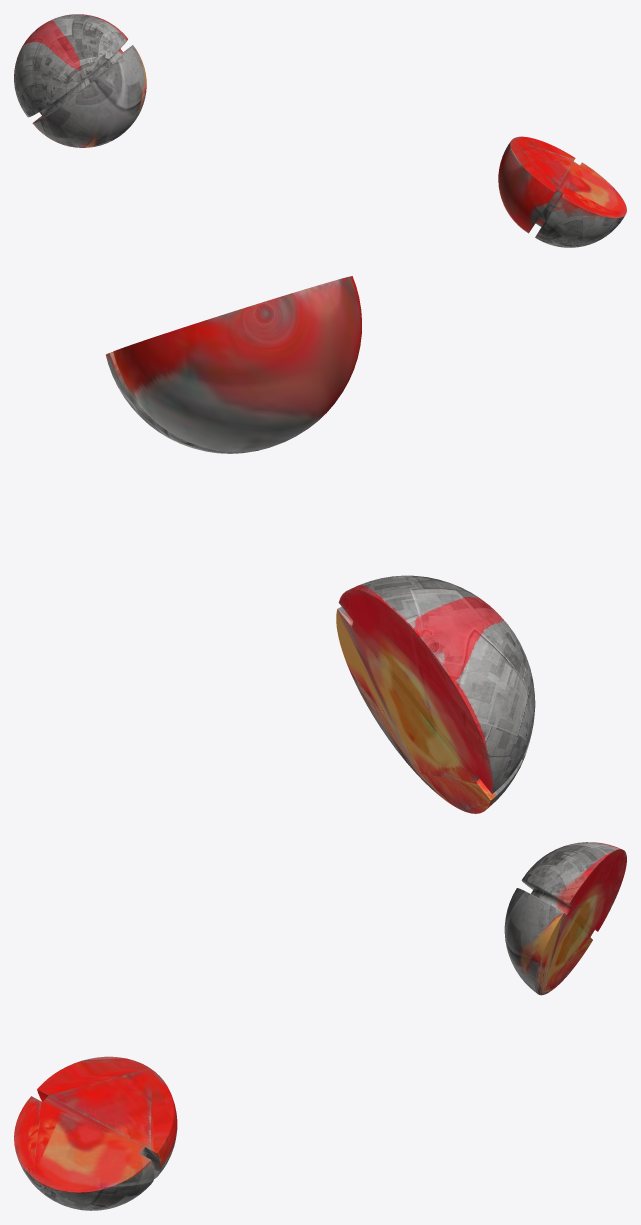
Rendered from Drone166_000032.obj.
The picture shows the model from 3 angles, top to bottom: view 1: azimuth 30°, elevation 25°; view 2: azimuth 150°, elevation 25°; view 3: azimuth 270°, elevation 25°; orthographic projection. The views are drawn at different scales.
Visible parts, largest first — view 1: Sphere.000_Sphere.004, Sphere.001_Sphere.005; view 2: Sphere.000_Sphere.004, Sphere.001_Sphere.005; view 3: Sphere.001_Sphere.005, Sphere.000_Sphere.004.
Part boxes in pixels (x1,y1,x2,y2): Sphere.000_Sphere.004: (14, 14, 146, 147); Sphere.001_Sphere.005: (498, 136, 626, 247); Sphere.000_Sphere.004: (336, 575, 535, 813); Sphere.001_Sphere.005: (106, 276, 361, 453); Sphere.001_Sphere.005: (14, 1056, 177, 1210); Sphere.000_Sphere.004: (504, 842, 626, 995).
Size of the model in its own units: 7.16 by 2.51 by 7.78.
4 materials, 4 textured.
